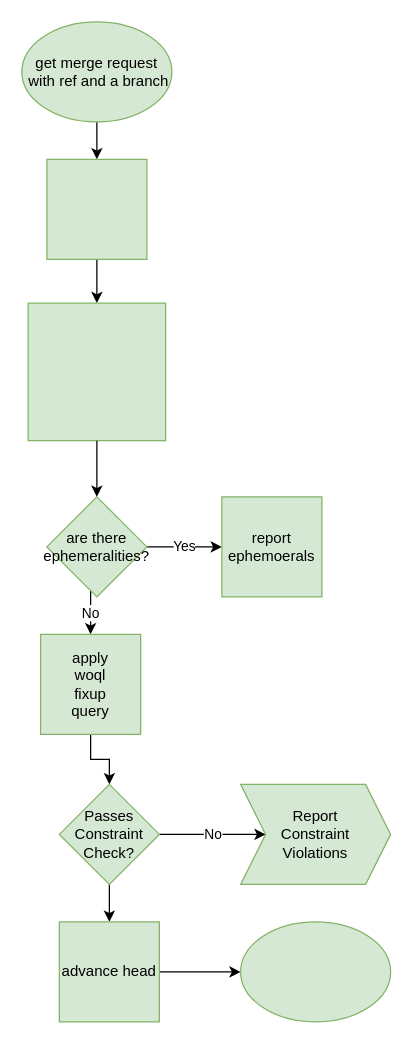
The diagram is 413 pixels wide and 1044 high, and some of its shapes have lost their labels. The shapes that lost their labels are listed below. From the top down, each one's centre as x and y in pixels, then its label:
At pixel 96 208: "find most recent common ancestor".
At pixel 96 371: "apply ephemeral fixups & calculate merge commit".
At pixel 315 971: "report success".
